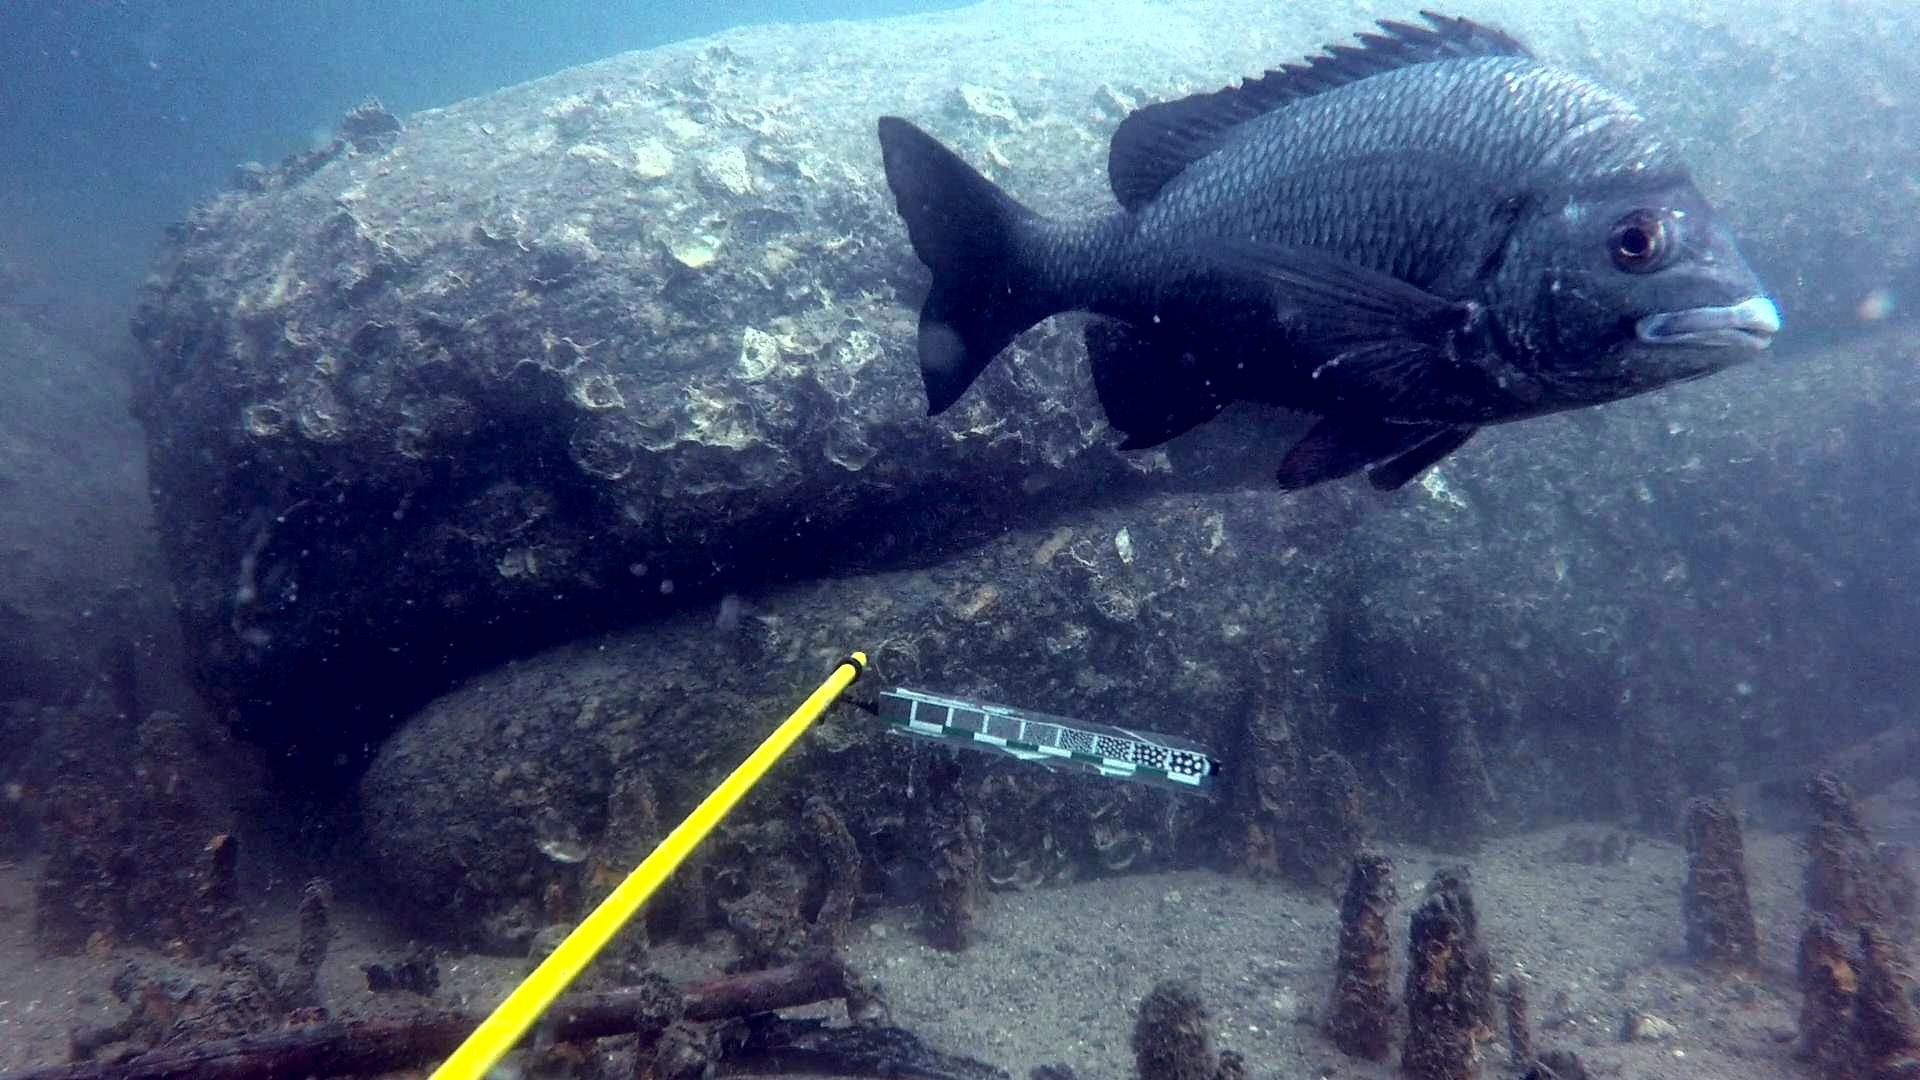acanthopagrus palmaris: (860, 8, 1795, 502)
